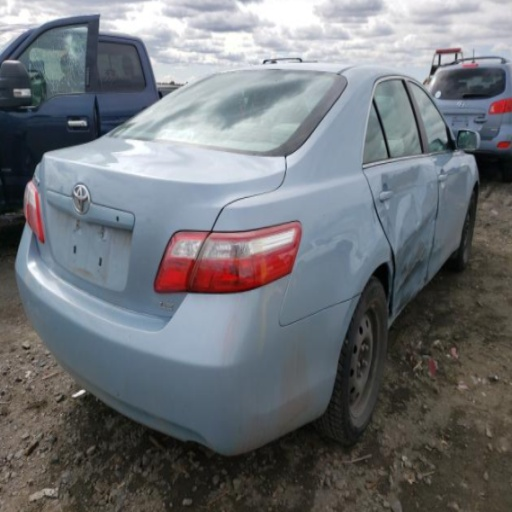dent: (380, 168, 431, 250), (395, 214, 434, 290), (395, 261, 424, 314), (430, 249, 441, 268), (372, 204, 376, 225)
rust: (235, 356, 328, 456), (74, 264, 115, 286), (117, 226, 134, 248)
